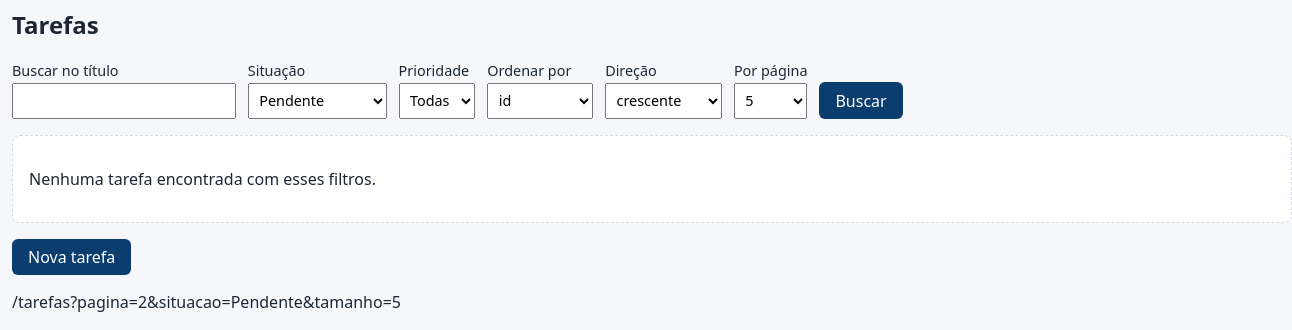
Test: ListaTarefas › lê os filtros da URL e grava os novos filtros na URL ao buscar
The image size is (1292, 330).
Select "Alta" in the dropdown labelled "Prioridade" at (437, 101), box [399,83,475,119]
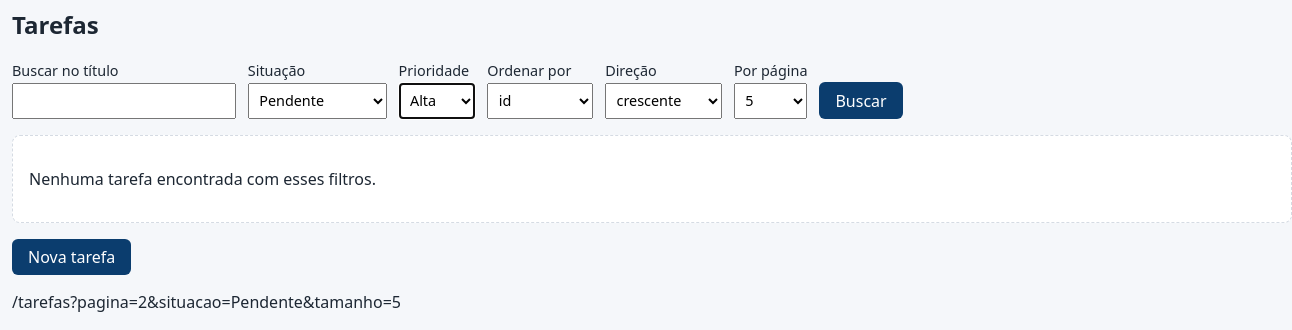
Click the button "Buscar" at (861, 101), box [820,82,903,119]
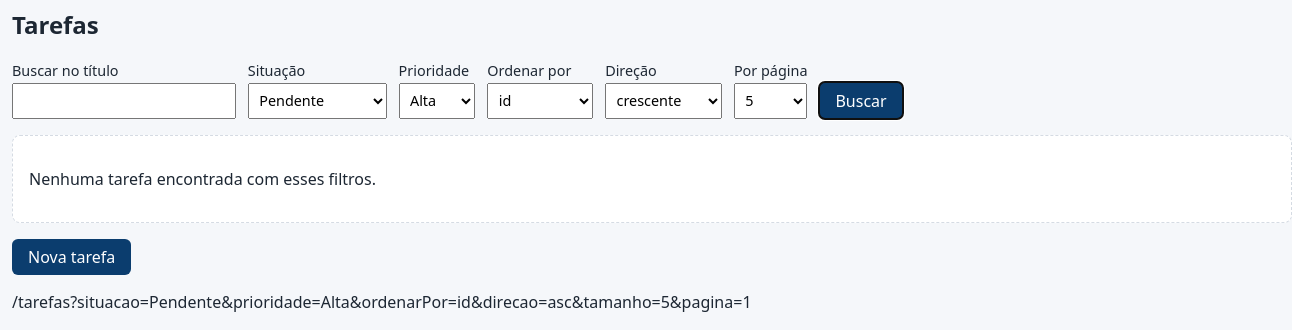
expect the text with test id "url" shows "situacao=Pendente": met, box [12,291,752,313]
expect the text with test id "url" shows "prioridade=Alta": met, box [12,291,752,313]
expect the text with test id "url" shows "pagina=1": met, box [12,291,752,313]
